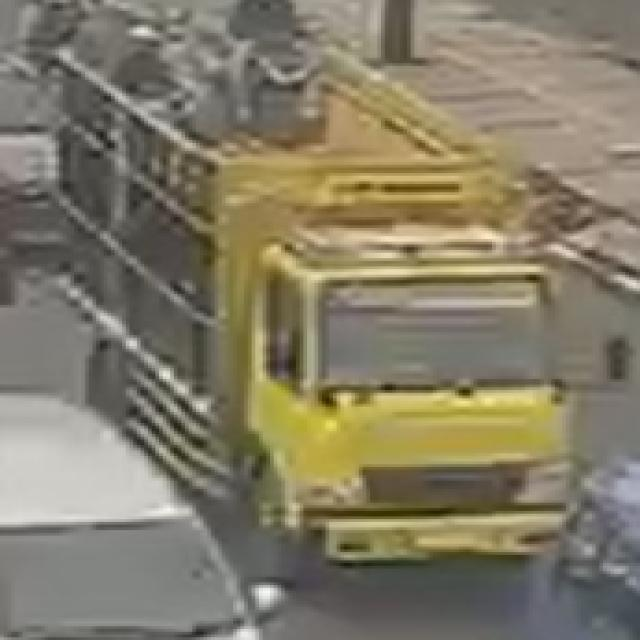truck: (37, 3, 611, 586)
